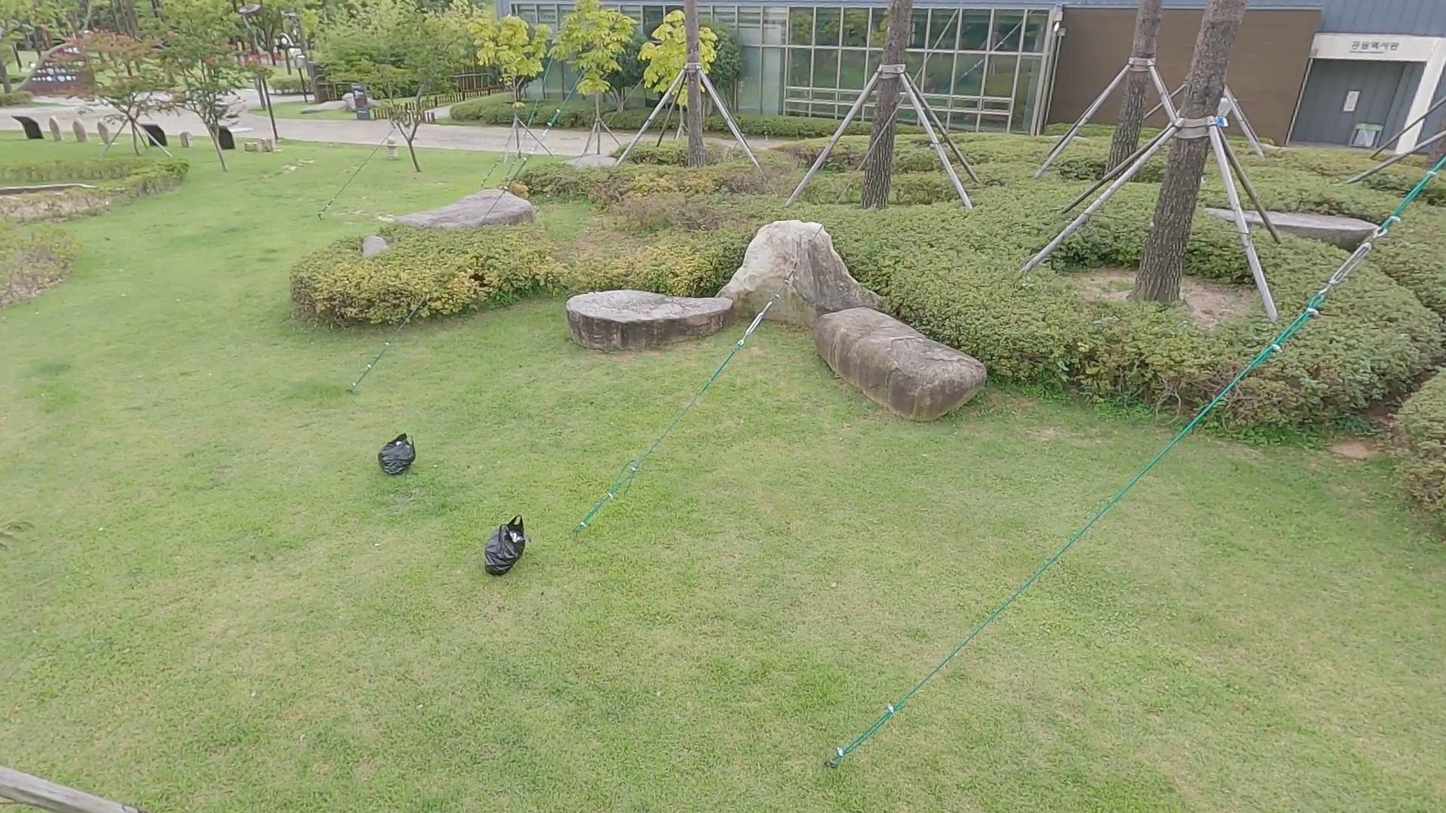trash: (484, 514, 527, 574), (377, 432, 416, 476)
